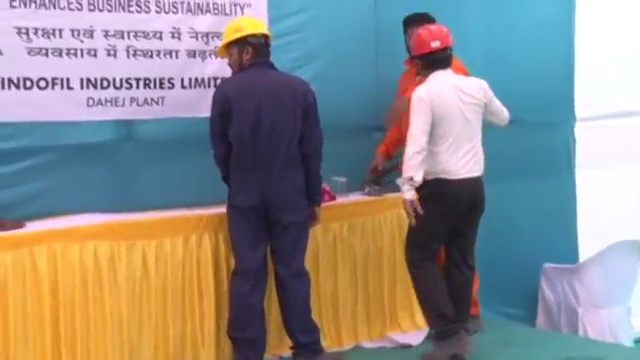helmet: (215, 16, 272, 55), (409, 23, 454, 56)
helmet_on: (215, 15, 273, 71), (408, 20, 455, 77)
person: (212, 15, 329, 360), (407, 21, 509, 360), (369, 13, 468, 178)
